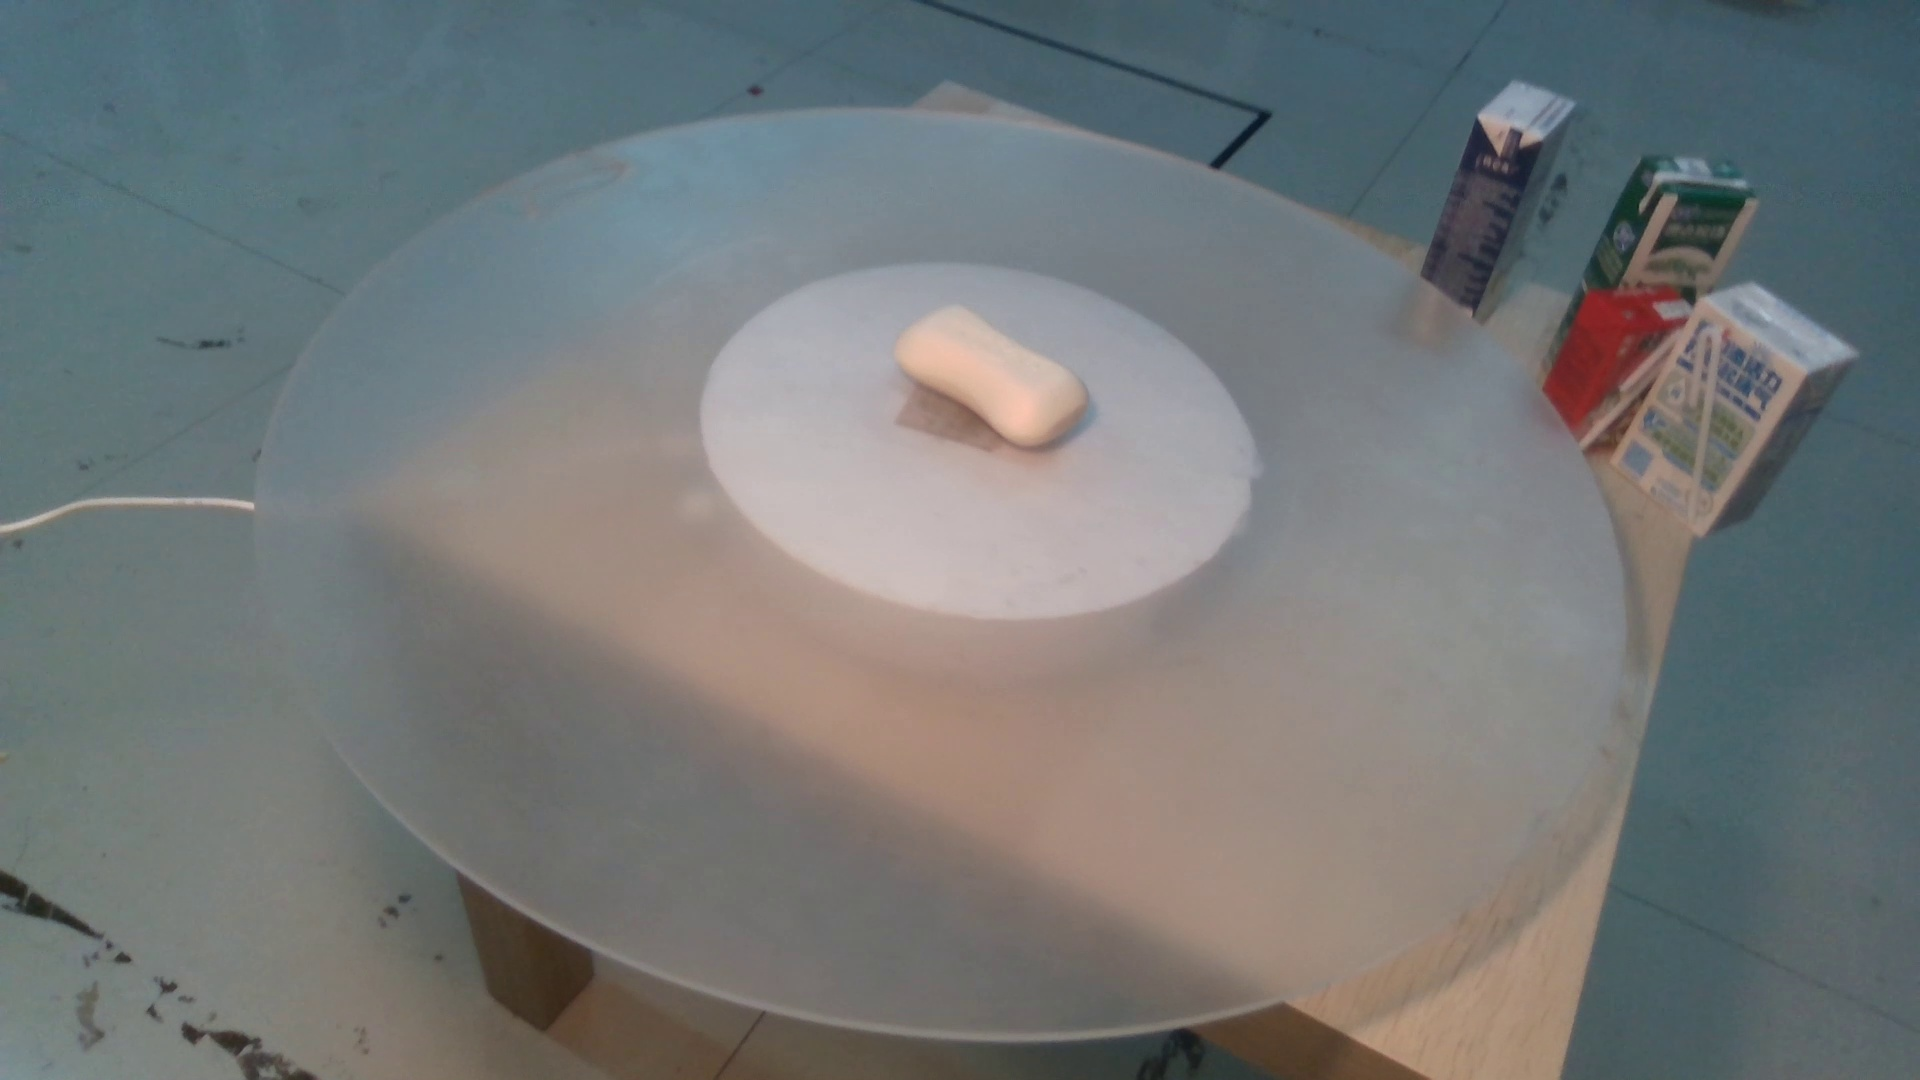CA003_1: (864, 289, 1141, 469)
